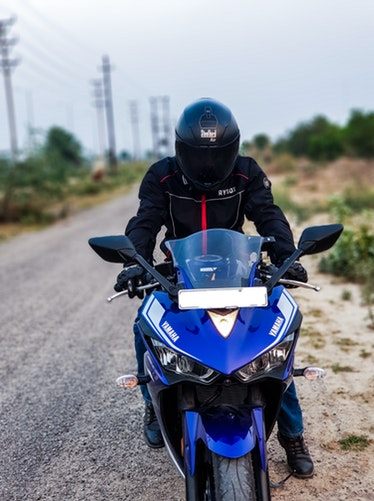helmet: (162, 102, 243, 173)
